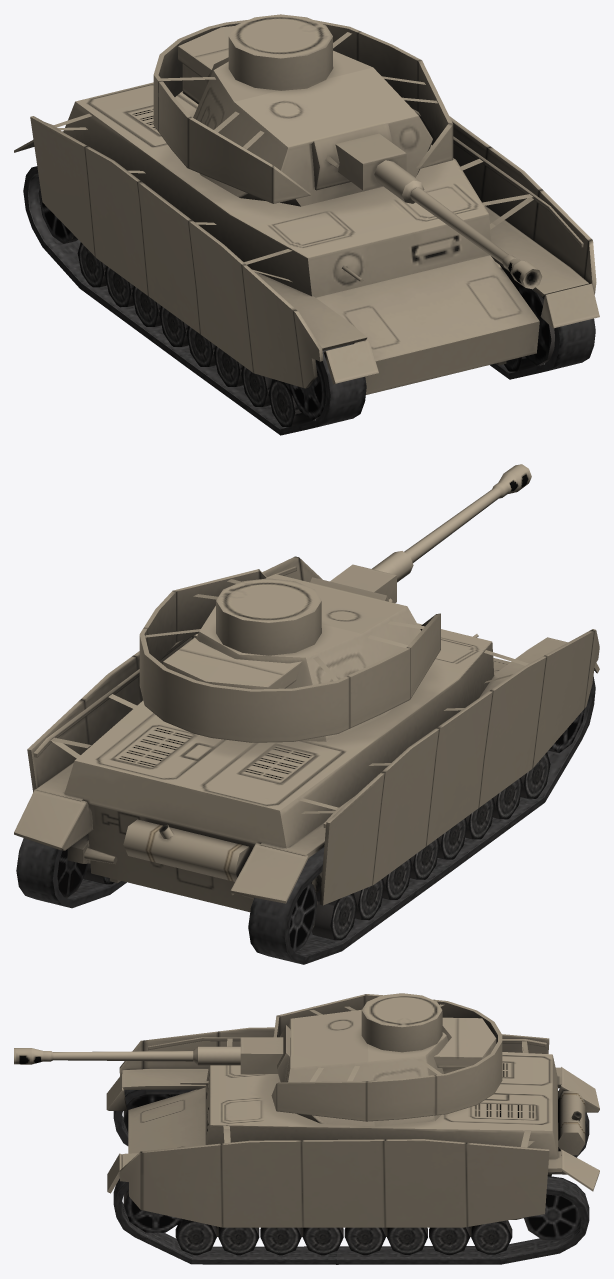
Rendered from IV号H型.FBX.
3 renders of one model, top to bottom at view 1: azimuth 30°, elevation 25°; view 2: azimuth 150°, elevation 25°; view 3: azimuth 270°, elevation 25°, orthographic. The views are drawn at different scales.
Parts seen in each view (by area): view 1: IV号h型_body, IV号h型_battery, IV号h型_track, IV号h型_barrel; view 2: IV号h型_body, IV号h型_battery, IV号h型_track, IV号h型_barrel; view 3: IV号h型_body, IV号h型_battery, IV号h型_track, IV号h型_barrel.
Part boxes in pixels (x1,y1,x2,y2): IV号h型_body: (14, 82, 599, 426); IV号h型_battery: (153, 14, 453, 206); IV号h型_track: (23, 166, 595, 435); IV号h型_barrel: (410, 187, 542, 289); IV号h型_body: (14, 556, 599, 952); IV号h型_battery: (139, 551, 440, 742); IV号h型_track: (16, 676, 595, 964); IV号h型_barrel: (404, 464, 531, 562); IV号h型_body: (106, 1027, 599, 1255); IV号h型_battery: (193, 993, 502, 1126); IV号h型_track: (113, 1089, 589, 1264); IV号h型_barrel: (14, 1048, 193, 1064).
Bounding box in the file's own units: 3.19 × 2.68 × 6.89.
